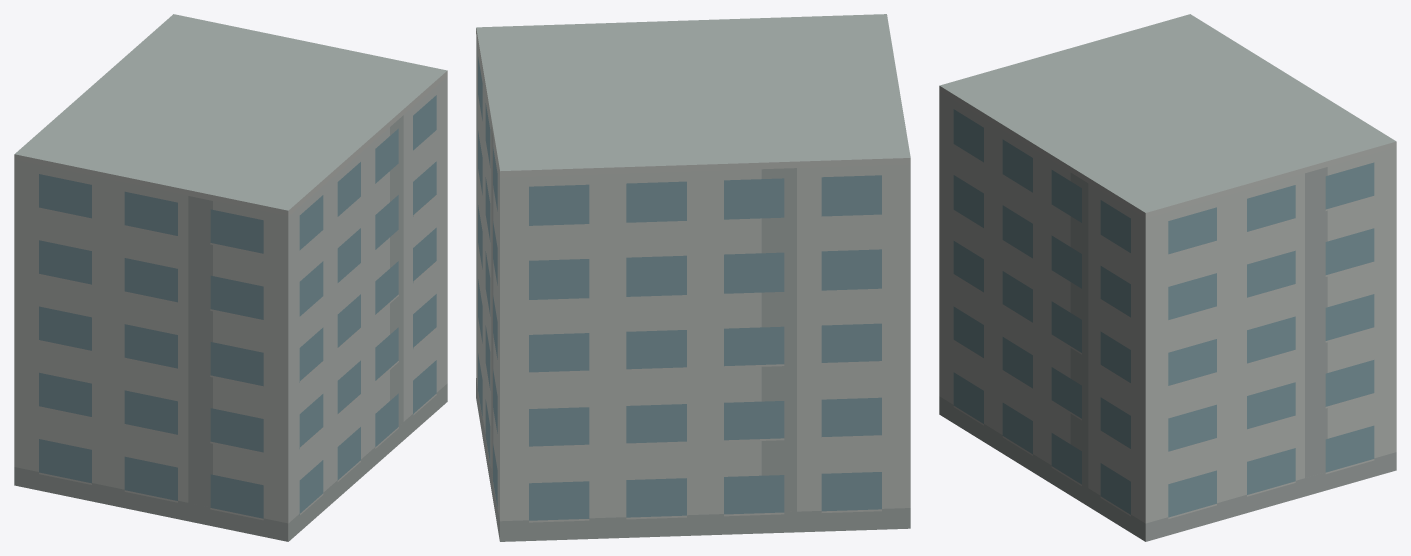
The model's file is survey-upis-32883423.glb.
3 renders of one model, left to right at view 1: azimuth 30°, elevation 25°; view 2: azimuth 150°, elevation 25°; view 3: azimuth 270°, elevation 25°, orthographic. The views are drawn at different scales.
Parts seen in each view (by area): view 1: survey-upis-32883423.tmp; view 2: survey-upis-32883423.tmp; view 3: survey-upis-32883423.tmp.
Boxes of the visible parts, x1=… form: survey-upis-32883423.tmp: x1=14, y1=14, x2=447, y2=541; survey-upis-32883423.tmp: x1=476, y1=14, x2=910, y2=541; survey-upis-32883423.tmp: x1=939, y1=14, x2=1396, y2=541.
Size of the model in its own units: 18.05 by 13.9 by 17.52.
